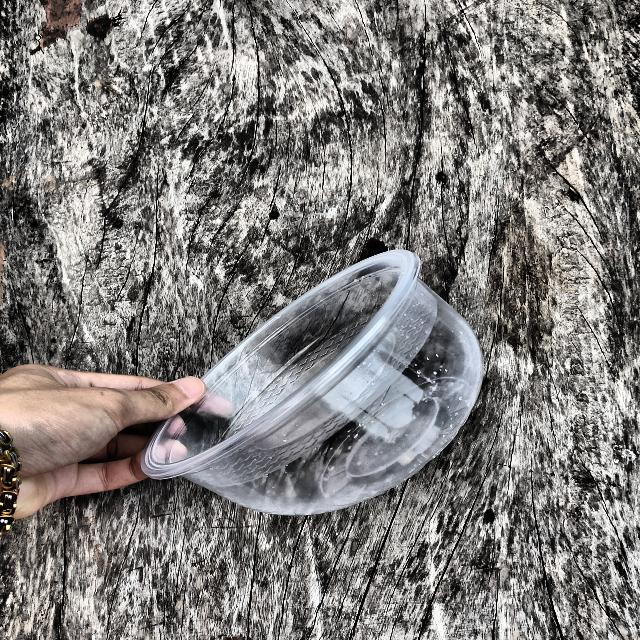plastic container: (168, 274, 462, 545)
